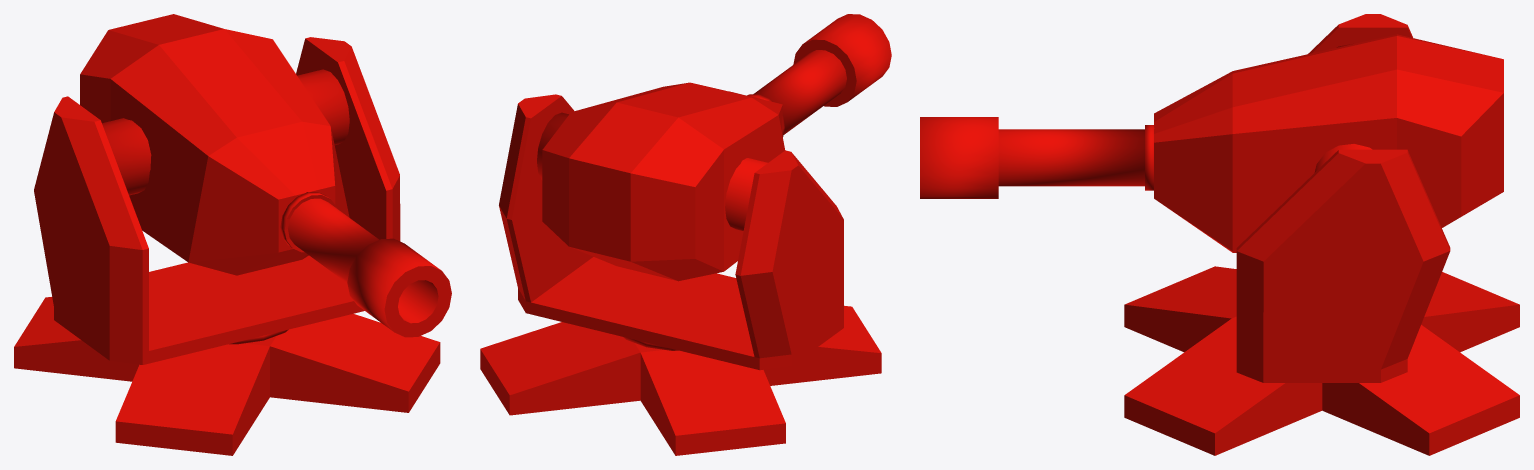
Rendered from generalTurret.glb.
3 renders of one model, left to right at view 1: azimuth 30°, elevation 25°; view 2: azimuth 150°, elevation 25°; view 3: azimuth 270°, elevation 25°, orthographic. The views are drawn at different scales.
Parts seen in each view (by area): view 1: pivotVertical, pivotHorizontal, base; view 2: pivotVertical, pivotHorizontal, base; view 3: pivotVertical, pivotHorizontal, base.
Part boxes in pixels (x1=…): pivotVertical: x1=80, y1=14, x2=451, y2=337; pivotHorizontal: x1=34, y1=37, x2=400, y2=364; base: x1=14, y1=297, x2=440, y2=455; pivotVertical: x1=537, y1=14, x2=891, y2=281; pivotHorizontal: x1=499, y1=94, x2=843, y2=370; base: x1=480, y1=305, x2=881, y2=455; pivotVertical: x1=920, y1=34, x2=1503, y2=252; pivotHorizontal: x1=1236, y1=14, x2=1450, y2=382; base: x1=1124, y1=266, x2=1519, y2=455.
Size of the model in its own units: 8.6 by 7.68 by 13.05.
